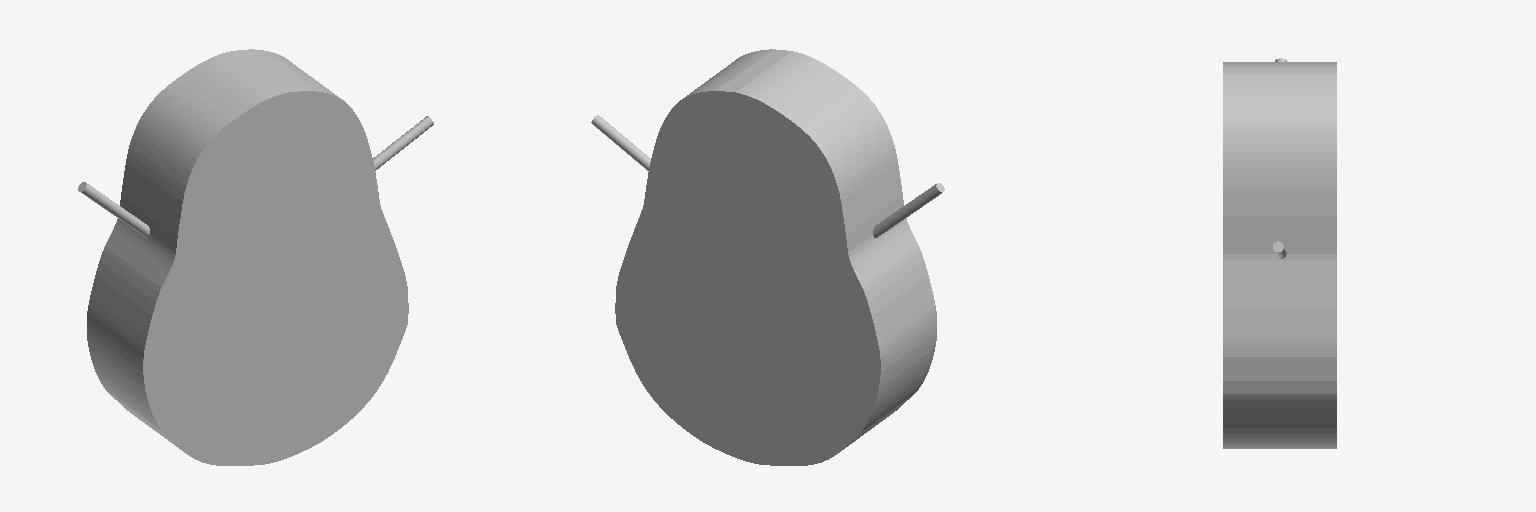
File: clock.obj
3 views of the same model, side by side, from view 1: azimuth 30°, elevation 25°; view 2: azimuth 150°, elevation 25°; view 3: azimuth 270°, elevation 25° (orthographic).
Parts seen in each view (by area): view 1: ClockBody_TexClock, Hand_L_Cylinder, Hand_R_Cylinder.001; view 2: ClockBody_TexClock, Hand_L_Cylinder, Hand_R_Cylinder.001; view 3: ClockBody_TexClock.
Boxes of the visible parts, <box> form: ClockBody_TexClock: <box>87,49,408,465</box>; Hand_L_Cylinder: <box>78,182,149,237</box>; Hand_R_Cylinder.001: <box>373,116,433,170</box>; ClockBody_TexClock: <box>615,49,936,465</box>; Hand_L_Cylinder: <box>873,183,944,237</box>; Hand_R_Cylinder.001: <box>591,115,650,170</box>; ClockBody_TexClock: <box>1223,62,1336,448</box>.
Size of the model in its own units: 0.792 by 0.7867 by 0.2204.